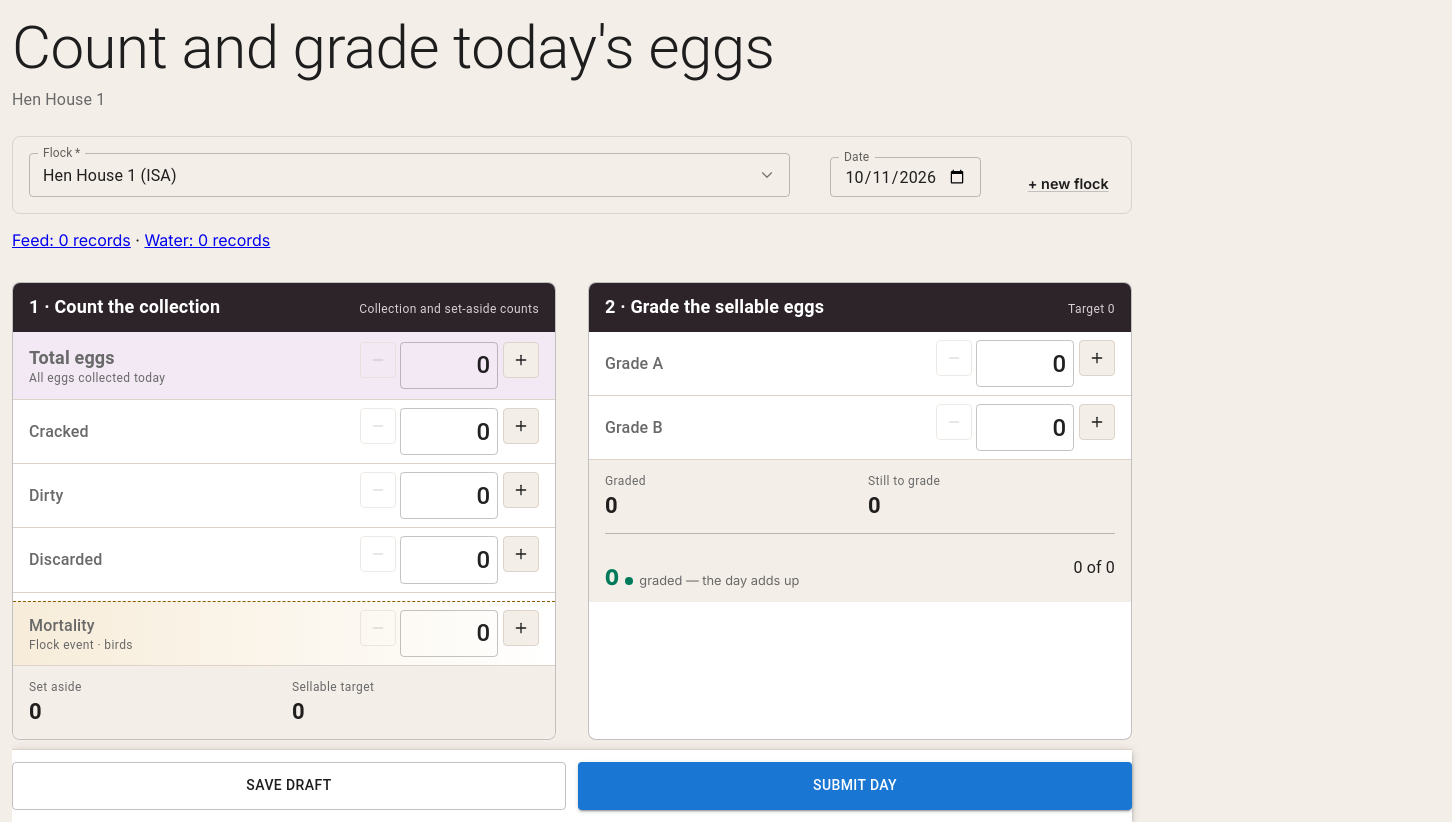
Test: DailyEntryPage accuracy gating › blocks submit for a fully ungraded day, even with no losses at all (#394)
The image size is (1452, 822).
expect the number field labelled "Grade A" is shown: met, box 976,340 -> 1074,387
expect the button "Save draft" is enabled: met, box 12,762 -> 566,810
Replace the text in the number field labelled "Total eggs" with "200" at coordinates (449, 365), box 400,342 -> 498,389
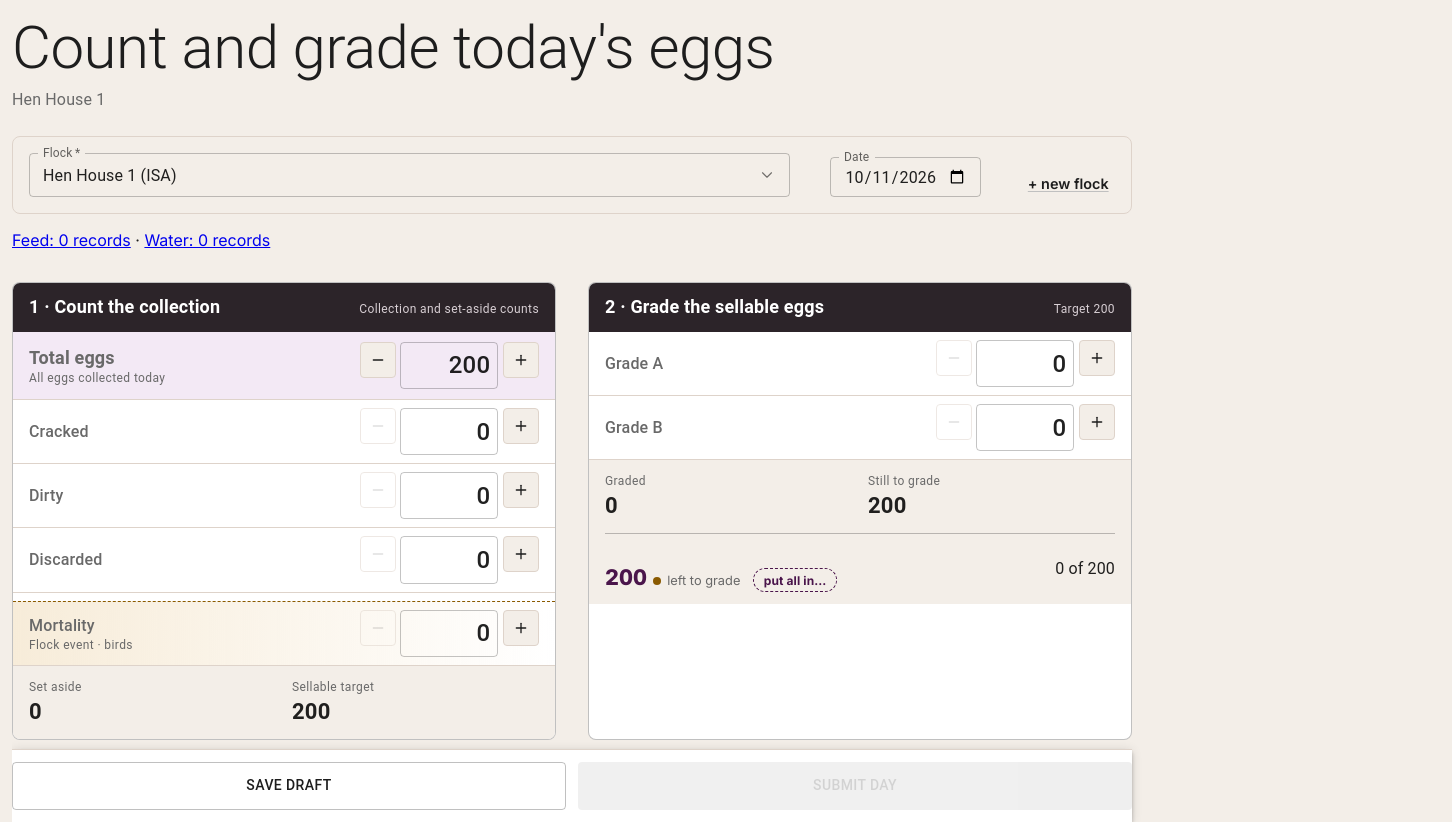
expect the message "Sellable target 200" is shown: met, box 292,680 -> 374,724
expect the element with class "entry-chip" shows "200 left to grade": met, box 605,564 -> 837,592
expect the button "Submit day" is disabled: met, box 578,762 -> 1132,810
